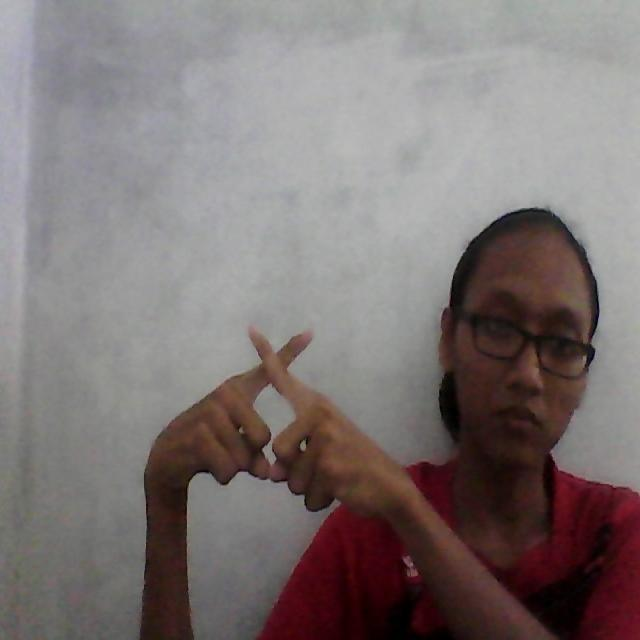X: (168, 306, 386, 522)
